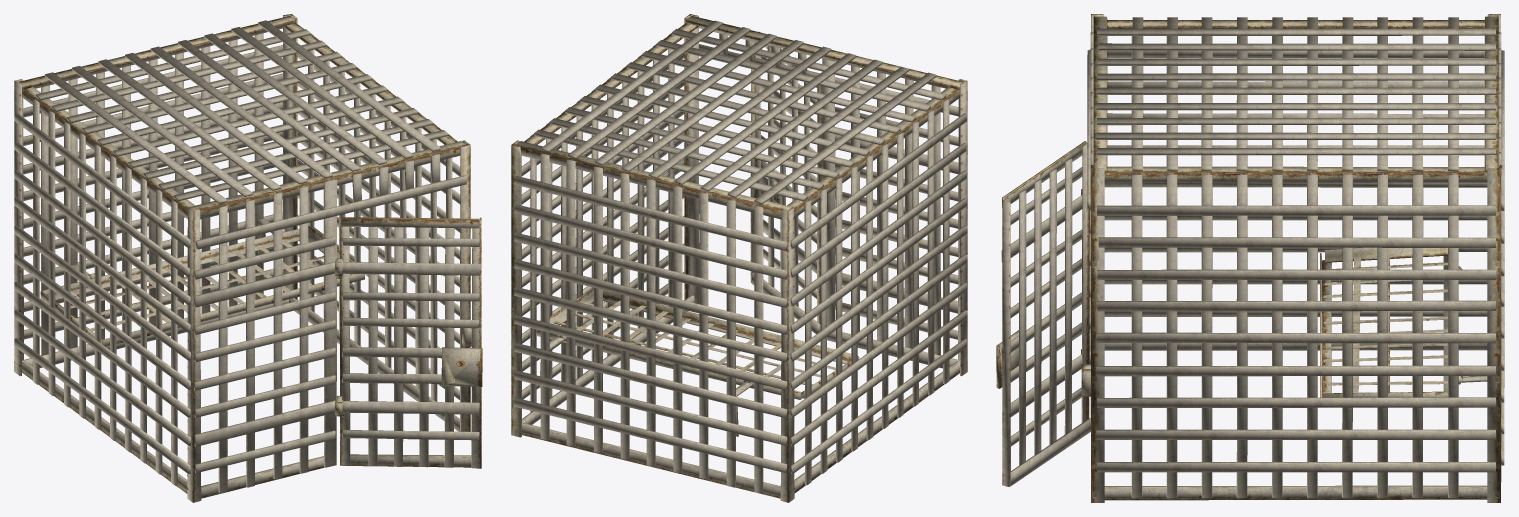
Rendered from iron_cage.obj.
3 renders of one model, left to right at view 1: azimuth 30°, elevation 25°; view 2: azimuth 150°, elevation 25°; view 3: azimuth 270°, elevation 25°, orthographic. The views are drawn at different scales.
Size of the model in its own units: 4.71 by 4.68 by 6.43.
Materials: 1 (1 with a texture image).
